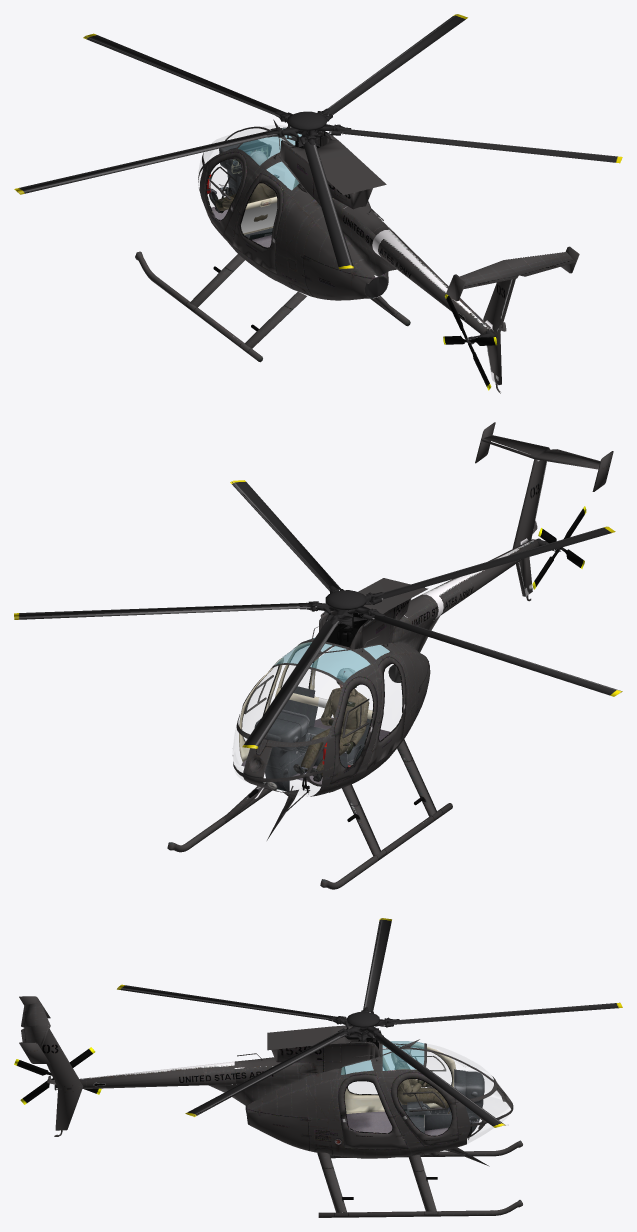
The picture shows the model from 3 angles, top to bottom: view 1: azimuth 30°, elevation 25°; view 2: azimuth 150°, elevation 25°; view 3: azimuth 270°, elevation 25°; orthographic projection. The views are drawn at different scales.
Parts seen in each view (by area): view 1: ext_fuse1, rotor_main, ext_fuse1_doors, ext_skids, glasss_grn, int_seats2, int_console, int_pilotR, rotor_tail; view 2: ext_fuse1, rotor_main, ext_fuse1_doors, ext_skids, int_pilotR, int_console, glasss_grn, int_seats2, glass, rotor_tail; view 3: ext_fuse1, rotor_main, ext_fuse1_doors, ext_skids, glass, int_console, int_pilotR, glasss_grn, int_fuse4, rotor_tail, int_seats2.
Part boxes in pixels (x1=…): ext_fuse1: x1=198, y1=119, x2=579, y2=393; rotor_main: x1=14, y1=14, x2=622, y2=269; ext_fuse1_doors: x1=204, y1=152, x2=299, y2=273; ext_skids: x1=135, y1=251, x2=410, y2=362; glasss_grn: x1=238, y1=128, x2=301, y2=190; int_seats2: x1=233, y1=195, x2=333, y2=239; int_console: x1=206, y1=139, x2=271, y2=194; int_pilotR: x1=209, y1=150, x2=277, y2=221; rotor_tail: x1=443, y1=294, x2=497, y2=390; ext_fuse1: x1=232, y1=422, x2=613, y2=840; rotor_main: x1=14, y1=480, x2=622, y2=748; ext_fuse1_doors: x1=239, y1=642, x2=406, y2=783; ext_skids: x1=167, y1=739, x2=452, y2=889; int_pilotR: x1=293, y1=668, x2=369, y2=781; int_console: x1=254, y1=709, x2=327, y2=791; glasss_grn: x1=274, y1=638, x2=389, y2=682; int_seats2: x1=275, y1=686, x2=372, y2=767; glass: x1=233, y1=665, x2=310, y2=781; rotor_tail: x1=532, y1=506, x2=586, y2=589; ext_fuse1: x1=19, y1=996, x2=513, y2=1166; rotor_main: x1=117, y1=918, x2=622, y2=1127; ext_fuse1_doors: x1=338, y1=1043, x2=458, y2=1149; ext_skids: x1=317, y1=1140, x2=522, y2=1217; glass: x1=348, y1=1044, x2=509, y2=1143; int_console: x1=424, y1=1069, x2=484, y2=1132; int_pilotR: x1=394, y1=1043, x2=449, y2=1108; glasss_grn: x1=341, y1=1041, x2=424, y2=1074; int_fuse4: x1=346, y1=1107, x2=448, y2=1135; rotor_tail: x1=14, y1=1047, x2=101, y2=1104; int_seats2: x1=390, y1=1070, x2=431, y2=1133.
Size of the model in its own units: 7.48 by 2.89 by 9.2.
11 materials, 11 textured.
